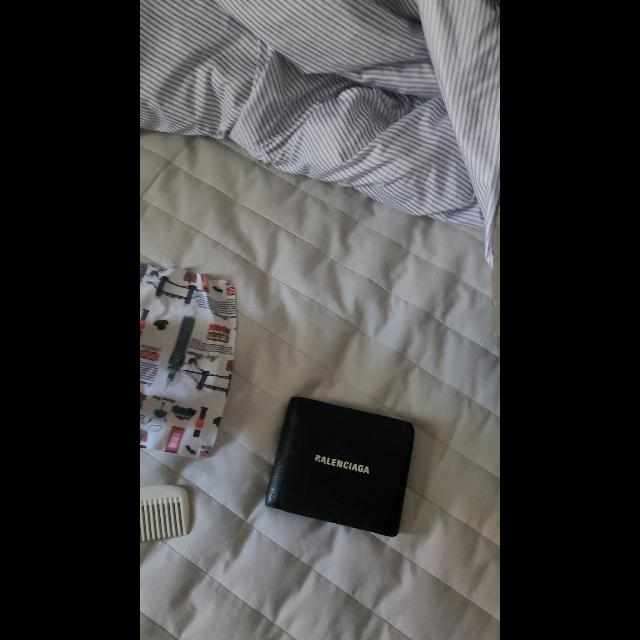COMB: (140, 484, 190, 540)
Glasses cleaning cloth: (140, 262, 236, 458)
WALLET: (266, 396, 414, 536)
